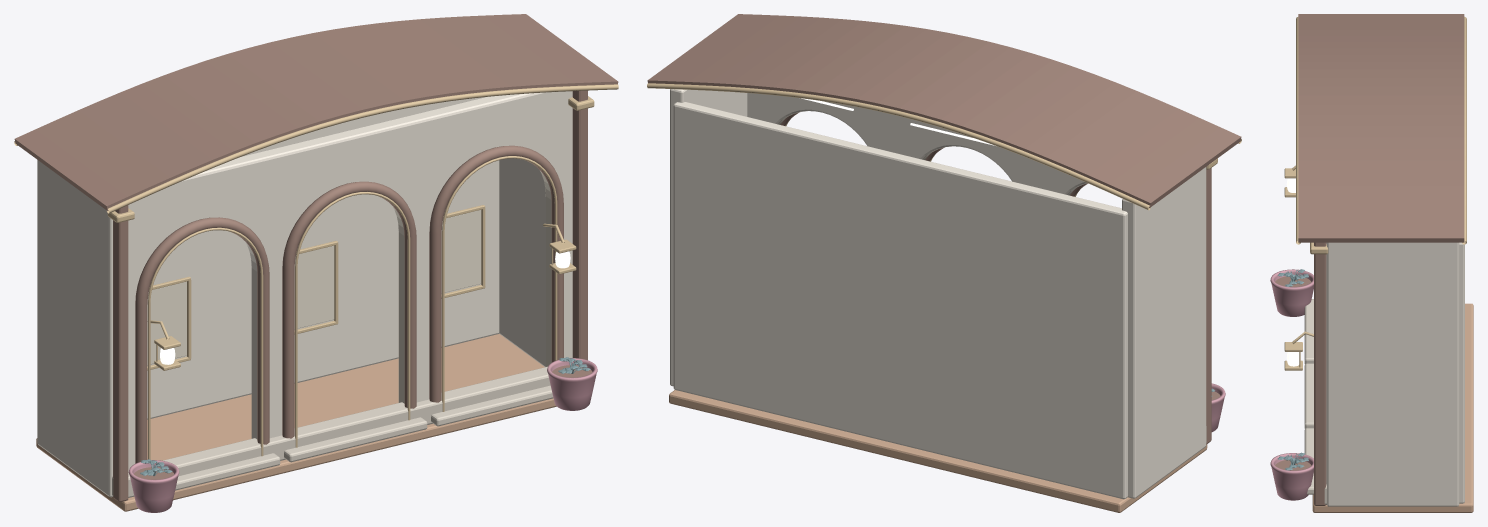
File: gallery.glb
The picture shows the model from 3 angles, left to right: view 1: azimuth 30°, elevation 25°; view 2: azimuth 150°, elevation 25°; view 3: azimuth 270°, elevation 25°; orthographic projection. The views are drawn at different scales.
Visible parts, largest first — view 1: gallery-plaster, gallery-darkWood, gallery-wood, gallery-stone, gallery-brass, gallery-paper, gallery-rose; view 2: gallery-plaster, gallery-darkWood, gallery-wood, gallery-brass; view 3: gallery-darkWood, gallery-plaster, gallery-wood, gallery-rose, gallery-brass, gallery-stone, gallery-ink, gallery-glow.
Boxes of the visible parts, x1,y1,x2,y2 form: gallery-plaster: [37, 91, 572, 497]; gallery-darkWood: [14, 14, 618, 501]; gallery-wood: [36, 334, 556, 511]; gallery-stone: [112, 366, 553, 497]; gallery-brass: [14, 84, 618, 459]; gallery-paper: [147, 210, 481, 365]; gallery-rose: [128, 358, 597, 512]; gallery-plaster: [670, 89, 1206, 499]; gallery-darkWood: [647, 14, 1241, 444]; gallery-wood: [669, 390, 1207, 512]; gallery-brass: [647, 83, 1241, 210]; gallery-darkWood: [1275, 14, 1464, 505]; gallery-plaster: [1326, 242, 1464, 506]; gallery-wood: [1312, 303, 1473, 512]; gallery-rose: [1270, 269, 1313, 500]; gallery-brass: [1284, 16, 1466, 370]; gallery-stone: [1304, 299, 1326, 504]; gallery-ink: [1277, 269, 1308, 470]; gallery-glow: [1286, 178, 1299, 366].
Bounding box in the file's own units: 10.24 × 6.75 × 3.91.
